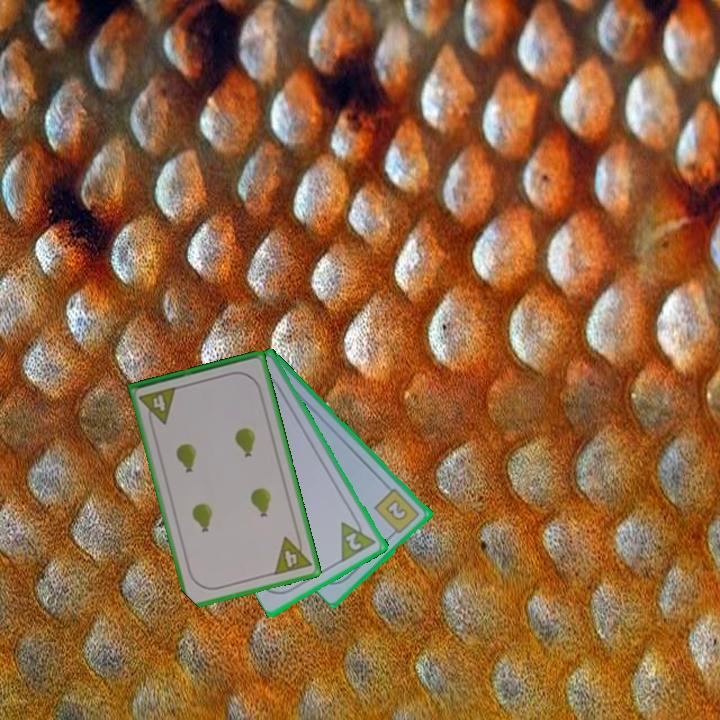2b: (371, 485, 423, 539)
2p: (342, 529, 365, 554)
4p: (270, 530, 314, 578), (136, 383, 180, 429)
